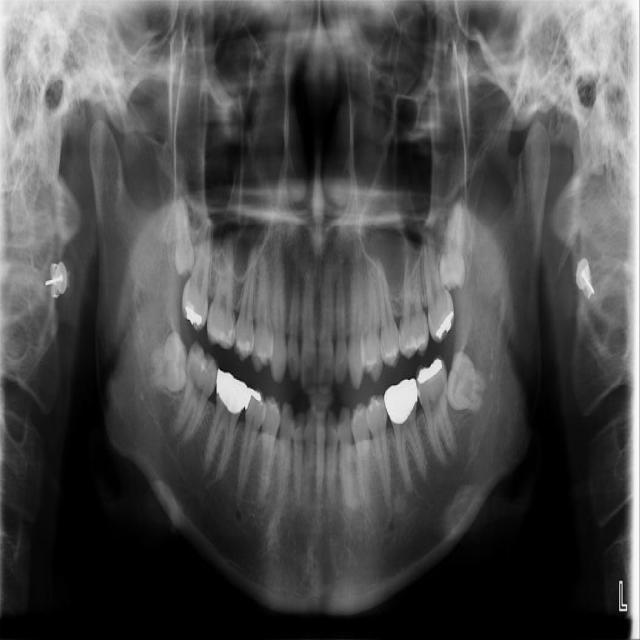3M ESPE Implant: (170, 199, 196, 277)
52: (202, 366, 256, 418), (382, 378, 421, 426), (413, 357, 447, 386), (434, 309, 459, 341), (179, 305, 206, 329), (245, 388, 263, 411), (417, 387, 420, 398)
73: (570, 570, 572, 576)
BioHorizons Implant: (419, 230, 457, 343)
BioLife Implant: (436, 204, 466, 292)
Biomet 3i Implant: (446, 351, 488, 412)
Blue Sky Bio Implant: (413, 355, 458, 462)
Caries: (181, 220, 213, 333)
Implant: (170, 340, 224, 443)
Keystone Dental Implant: (145, 329, 190, 393)
